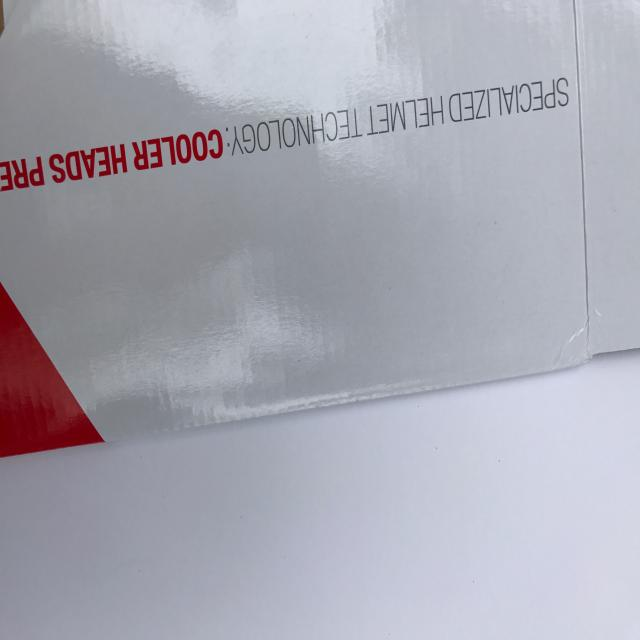cardboard: (1, 0, 639, 457)
